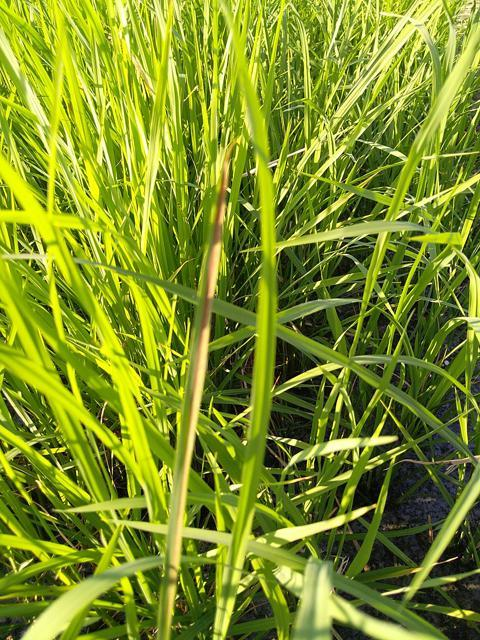Leaf Streak: (158, 141, 234, 639)
